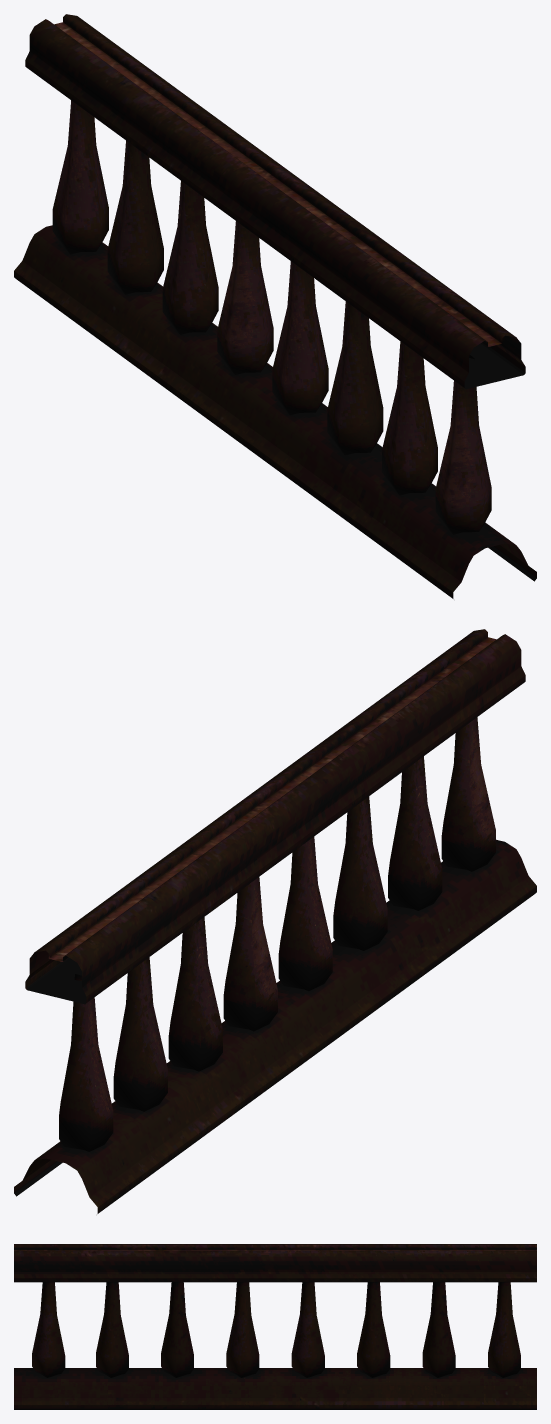
The model's file is 42_railing.dae.
3 renders of one model, top to bottom at view 1: azimuth 30°, elevation 25°; view 2: azimuth 150°, elevation 25°; view 3: azimuth 270°, elevation 25°, orthographic. The views are drawn at different scales.
Parts seen in each view (by area): view 1: mansionbase_stairs_railing; view 2: mansionbase_stairs_railing; view 3: mansionbase_stairs_railing.
Boxes of the visible parts, bbox=[...] form: mansionbase_stairs_railing: bbox=[14, 14, 536, 598]; mansionbase_stairs_railing: bbox=[14, 629, 536, 1213]; mansionbase_stairs_railing: bbox=[14, 1244, 536, 1409].
Size of the model in its own units: 0.4404 by 1.27 by 4.
Materials: 1 (1 with a texture image).
